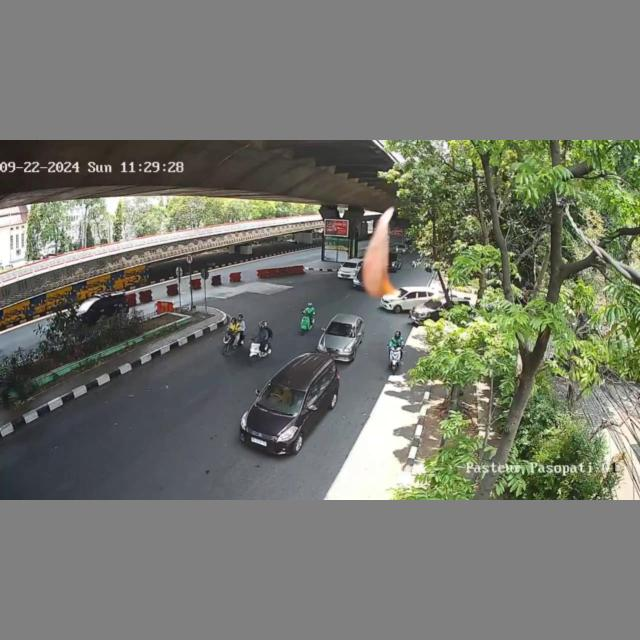windshield: (256, 383, 306, 419), (325, 320, 356, 338), (342, 262, 357, 269)
